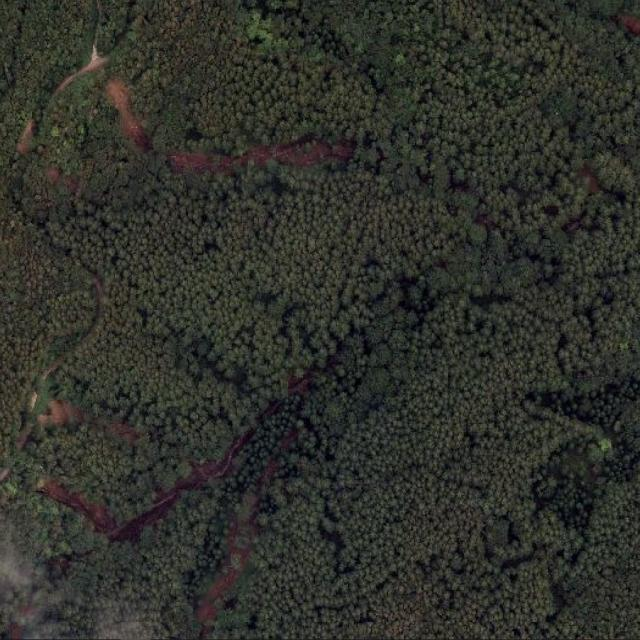landslide: (167, 136, 356, 174), (105, 77, 150, 152), (53, 44, 109, 95)
